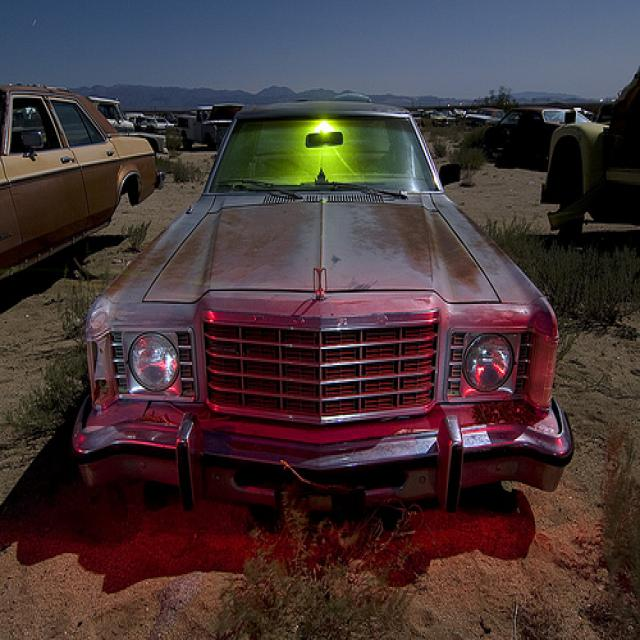Car: (70, 89, 571, 499), (0, 86, 164, 275)
